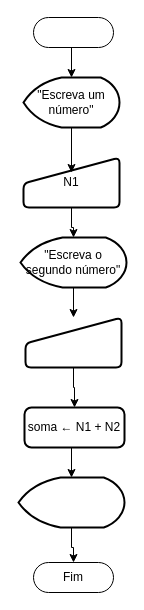
This 144x610 diagram has some shape labels left out. The shapes that lost their labels are listed below. From the top down, each one's centre as x and y in pixels, then its label:
(x=73, y=32): Inicio
(x=73, y=342): N2
(x=71, y=502): "O resultado da soma é: " + soma
